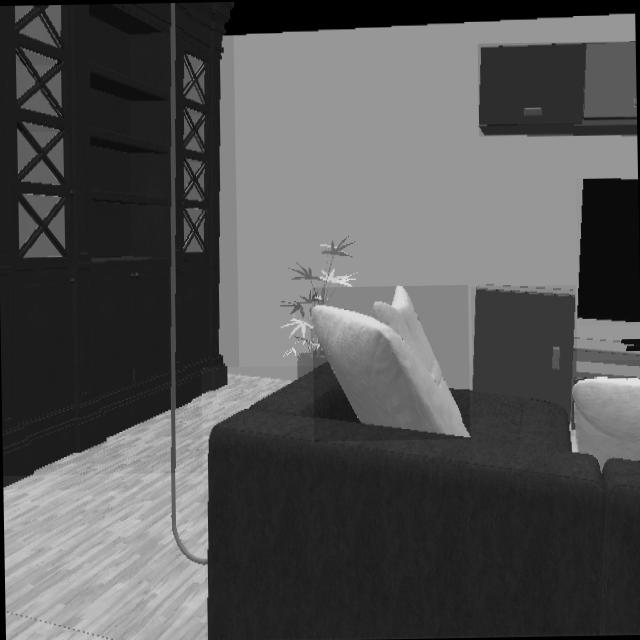bookshelf: (0, 1, 231, 476)
cabinet: (479, 41, 637, 136), (472, 287, 576, 414)
monitor: (578, 178, 640, 325)
pillow: (312, 286, 470, 439), (571, 378, 640, 469)
sofa: (205, 365, 640, 640)
